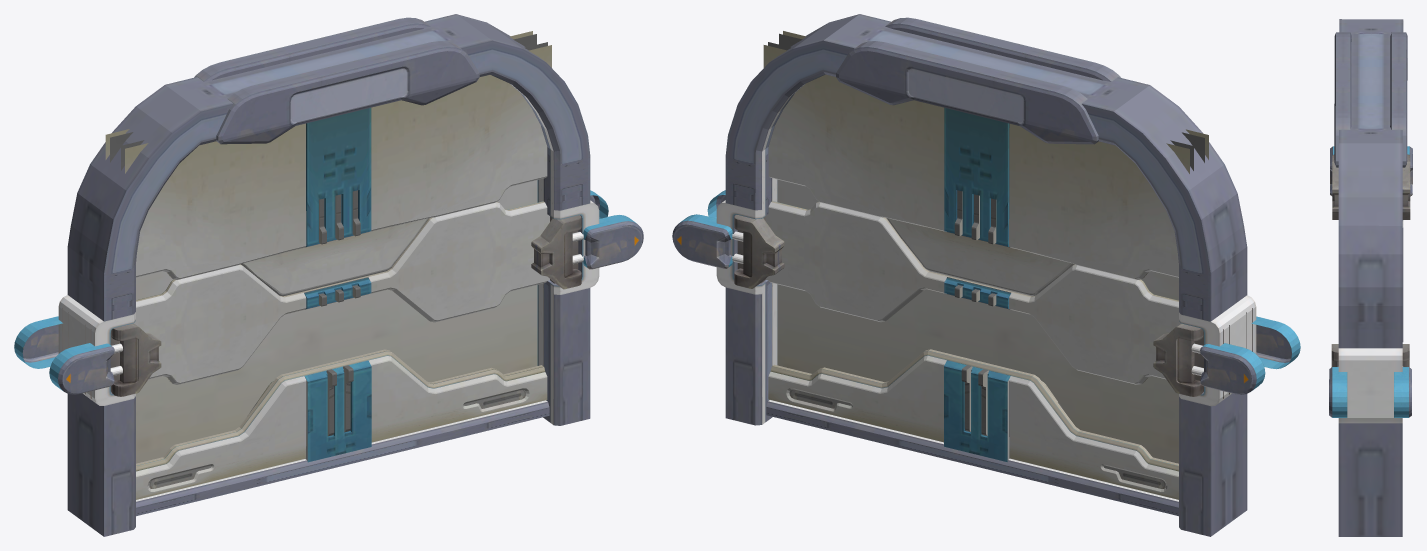
The model's file is Demo_damen.FBX.
The picture shows the model from 3 angles, left to right: view 1: azimuth 30°, elevation 25°; view 2: azimuth 150°, elevation 25°; view 3: azimuth 270°, elevation 25°; orthographic projection. The views are drawn at different scales.
Visible parts, largest first — view 1: Demo_damen; view 2: Demo_damen; view 3: Demo_damen.
Part boxes in pixels (left/top/right/bottom): Demo_damen: left=14, top=14, right=643, bottom=536; Demo_damen: left=672, top=14, right=1300, bottom=536; Demo_damen: left=1329, top=19, right=1412, bottom=536.
Size of the model in its own units: 11.98 by 8 by 1.69.
